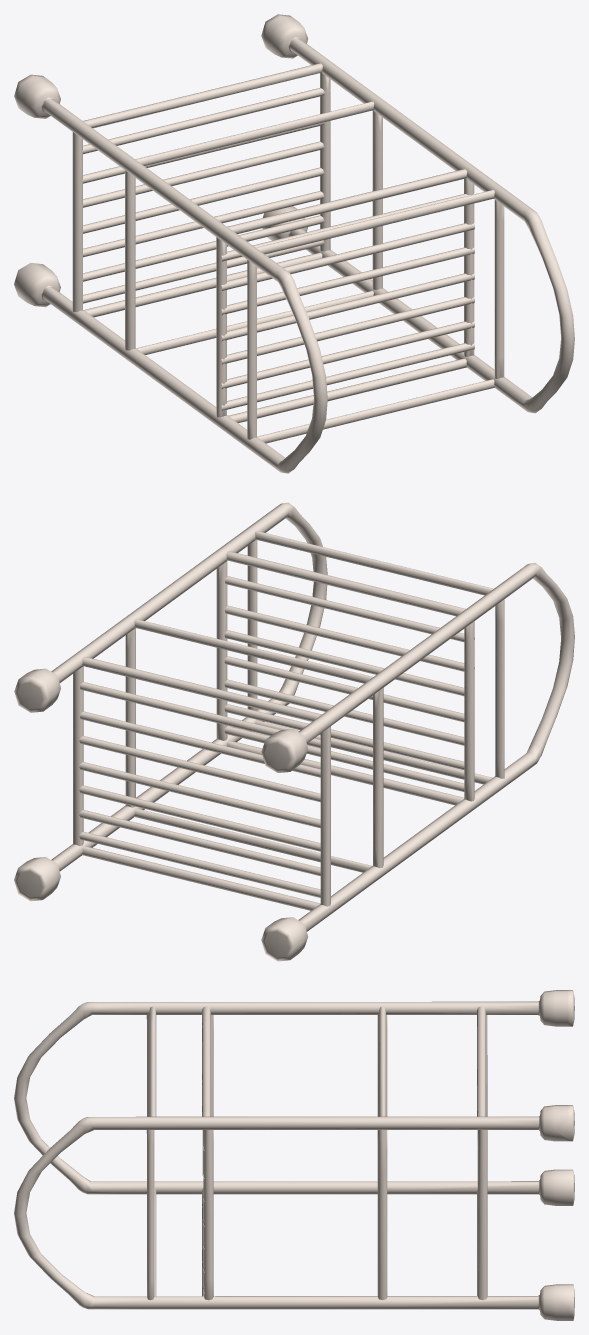
File: CartmeshFp401_Cube_050_0.obj
3 renders of one model, top to bottom at view 1: azimuth 30°, elevation 25°; view 2: azimuth 150°, elevation 25°; view 3: azimuth 270°, elevation 25°, orthographic. The views are drawn at different scales.
Visible parts, largest first — view 1: Fp401_Cube_050; view 2: Fp401_Cube_050; view 3: Fp401_Cube_050.
Boxes of the visible parts, x1=… form: Fp401_Cube_050: x1=14, y1=14, x2=574, y2=473; Fp401_Cube_050: x1=14, y1=502, x2=574, y2=961; Fp401_Cube_050: x1=14, y1=990, x2=574, y2=1320.
Bounding box in the file's own units: 0.7047 × 0.5357 × 1.28.
1 material, 1 textured.
